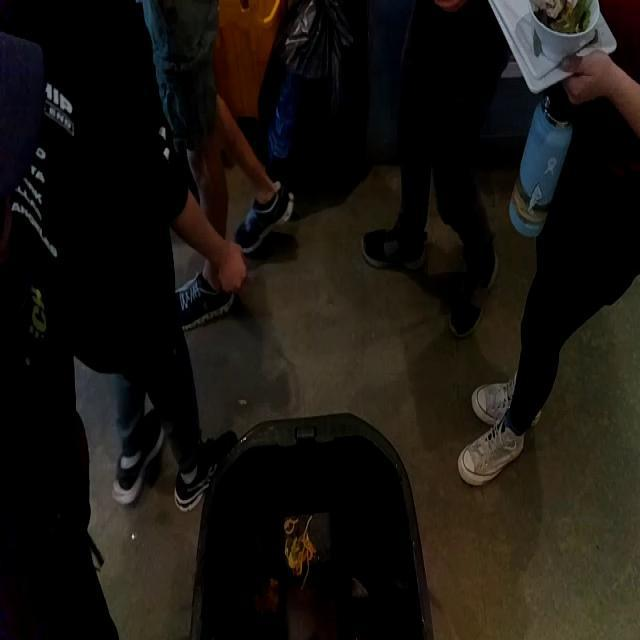Anorganik: (483, 0, 616, 124), (531, 0, 600, 81)
Organik: (531, 0, 599, 35)
